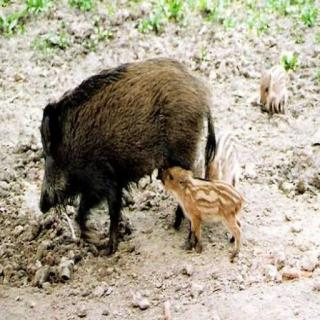Pig: (10, 48, 222, 256), (158, 133, 247, 254)
